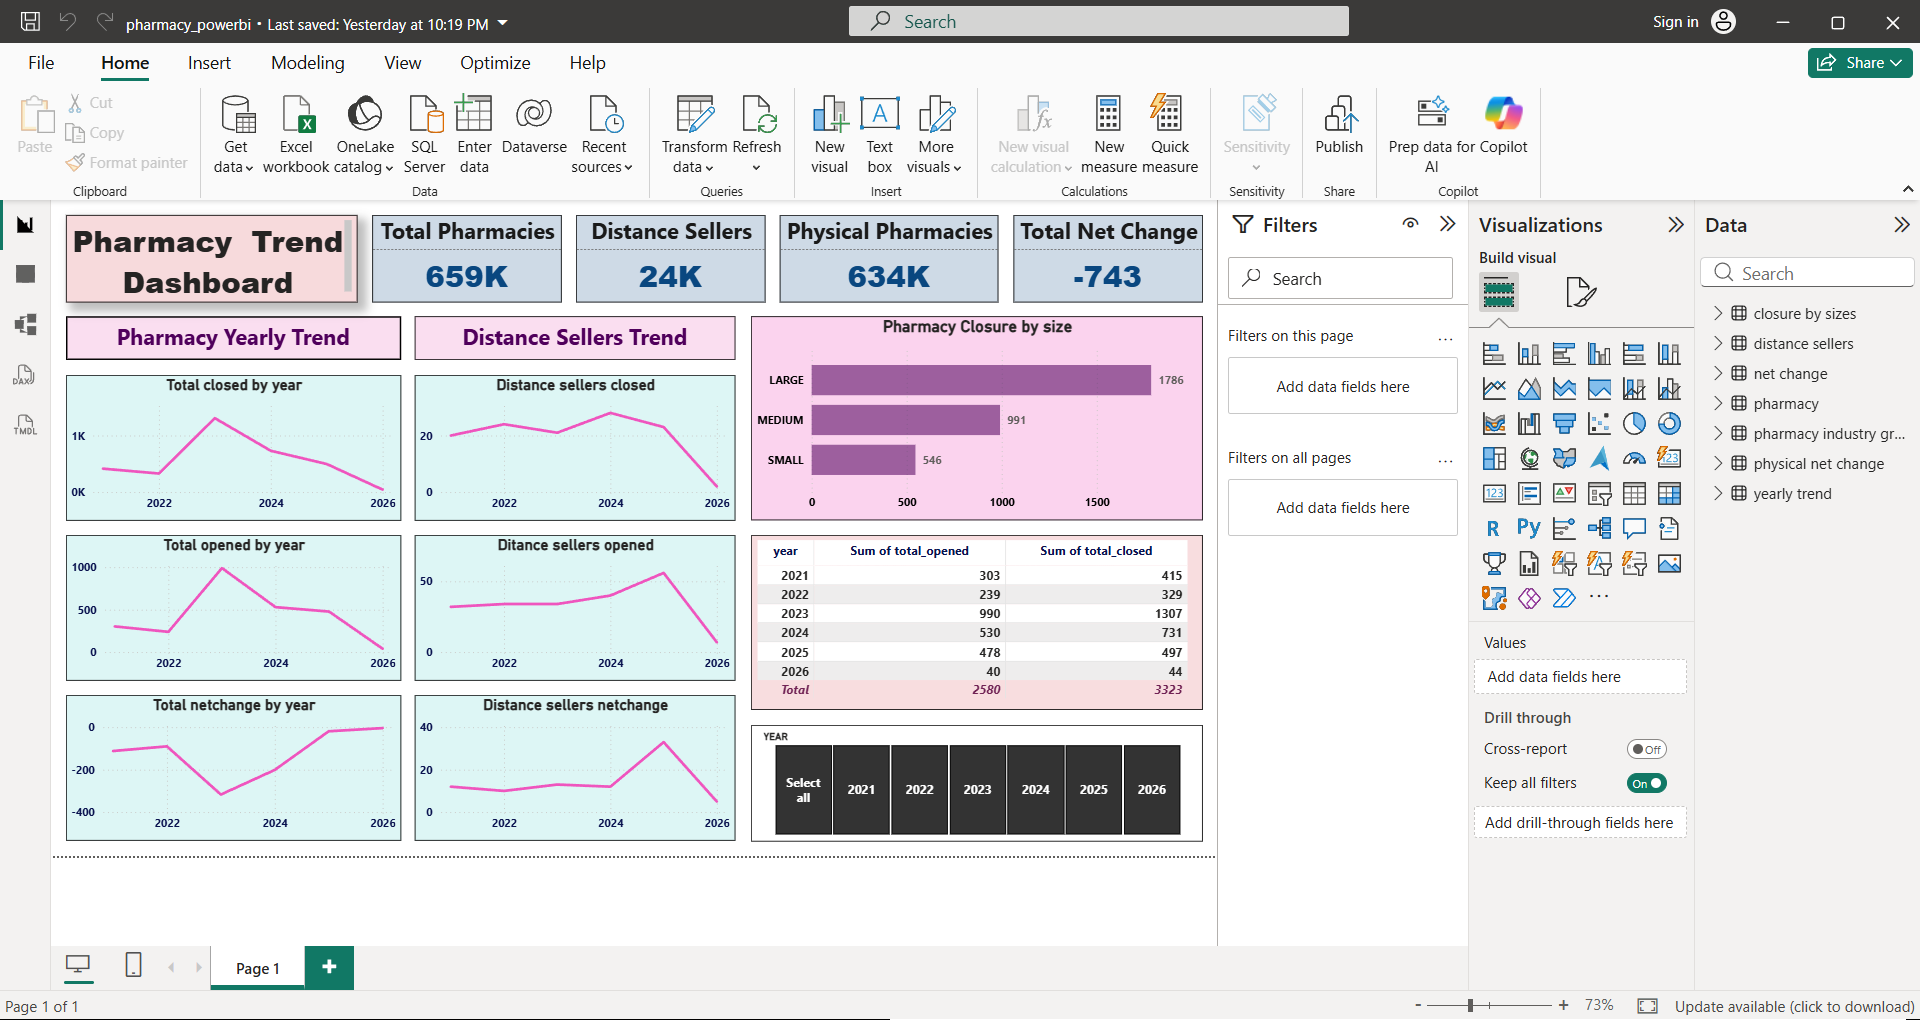

The dashboard page shown, as its layout file describes it:
{"tool":"powerbi","page":{"name":"Page 1","canvas":[1280,720],"ordinal":0},"visuals":[{"type":"textbox","box":[16,16,320,96],"z":0},{"type":"card","title":"Total Pharmacies","fields":{"Values":["Sum(pharmacy.TOTAL_PHARMACIES)"]},"box":[352,16,208,96],"z":1000},{"type":"lineChart","title":"Total closed by year","fields":{"Category":["yearly trend.year"],"Y":["Sum(yearly trend.total_closed)"]},"box":[16,192,368,160],"z":2000},{"type":"card","title":"Distance Sellers","fields":{"Values":["Sum(pharmacy.TOTAL_DISTANCE_SELLING_PHARMACIES)"]},"box":[576,16,208,96],"z":3000},{"type":"card","title":"Physical Pharmacies","fields":{"Values":["Sum(pharmacy.TOTAL_PHARMACIES_EXCLUDING_DISTANCE_SELLERS)"]},"box":[800,16,240,96],"z":4000},{"type":"card","title":"Total Net Change","fields":{"Values":["Sum(pharmacy.PHARMACIES_EXCLUDING_DISTANCE_SELLERS_NET_CHANGE)"]},"box":[1056,16,208,96],"z":5000},{"type":"lineChart","title":"Total opened by year","fields":{"Category":["yearly trend.year"],"Y":["Sum(yearly trend.total_opened)"]},"box":[16,368,368,160],"z":6000},{"type":"lineChart","title":"Total netchange by year","fields":{"Category":["yearly trend.year"],"Y":["Sum(yearly trend.total_netchange)"]},"box":[16,544,368,160],"z":7000},{"type":"textbox","box":[16,128,368,48],"z":8000},{"type":"textbox","box":[400,128,352,48],"z":9000},{"type":"lineChart","title":"Distance sellers closed","fields":{"Category":["distance sellers.year"],"Y":["Sum(distance sellers.dist_closed)"]},"box":[400,192,352,160],"z":10000},{"type":"lineChart","title":"Distance sellers netchange","fields":{"Category":["distance sellers.year"],"Y":["Sum(distance sellers.dist_netchange)"]},"box":[400,544,352,160],"z":11000},{"type":"lineChart","title":"Ditance sellers opened","fields":{"Category":["distance sellers.year"],"Y":["Sum(distance sellers.dist_open)"]},"box":[400,368,352,160],"z":12000},{"type":"clusteredBarChart","title":"Pharmacy Closure by size","fields":{"Category":["closure by sizes.pharmacy_size"],"Y":["Sum(closure by sizes.total_closed)"]},"box":[768,128,496,224],"z":13000},{"type":"slicer","fields":{"Values":["pharmacy.YEAR"]},"box":[768,576,496,128],"z":14000},{"type":"tableEx","fields":{"Values":["yearly trend.year","Sum(yearly trend.total_opened)","Sum(yearly trend.total_closed)"]},"box":[768,368,496,192],"z":15000}]}

Visuals, with their boxes on the page's 1280x720 design canvas (x1, y1, x2, y2). These are canvas units, not pixel positions in the 1920x1020 screenshot, which may show the page scaled, cropped or inside an application window:
textbox: (16,16,336,112)
"Total Pharmacies" card: (352,16,560,112)
"Total closed by year" lineChart: (16,192,384,352)
"Distance Sellers" card: (576,16,784,112)
"Physical Pharmacies" card: (800,16,1040,112)
"Total Net Change" card: (1056,16,1264,112)
"Total opened by year" lineChart: (16,368,384,528)
"Total netchange by year" lineChart: (16,544,384,704)
textbox: (16,128,384,176)
textbox: (400,128,752,176)
"Distance sellers closed" lineChart: (400,192,752,352)
"Distance sellers netchange" lineChart: (400,544,752,704)
"Ditance sellers opened" lineChart: (400,368,752,528)
"Pharmacy Closure by size" clusteredBarChart: (768,128,1264,352)
slicer - pharmacy.YEAR: (768,576,1264,704)
tableEx - yearly trend.year x Sum(yearly trend.total_opened): (768,368,1264,560)
